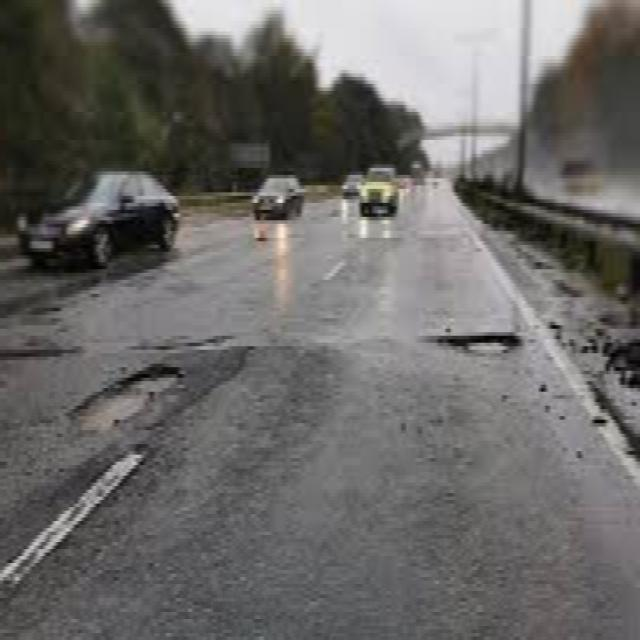Pothole: (69, 360, 201, 440), (432, 330, 530, 366), (0, 344, 80, 359)
